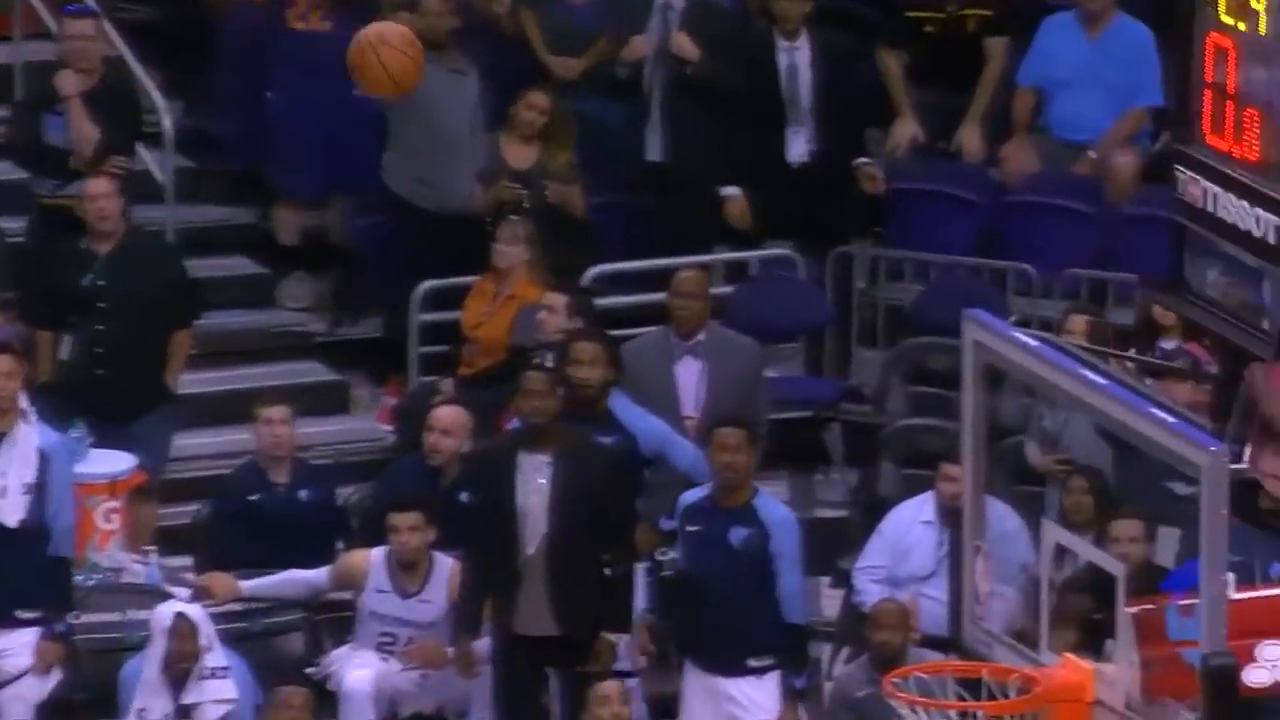ball: (346, 20, 428, 98)
